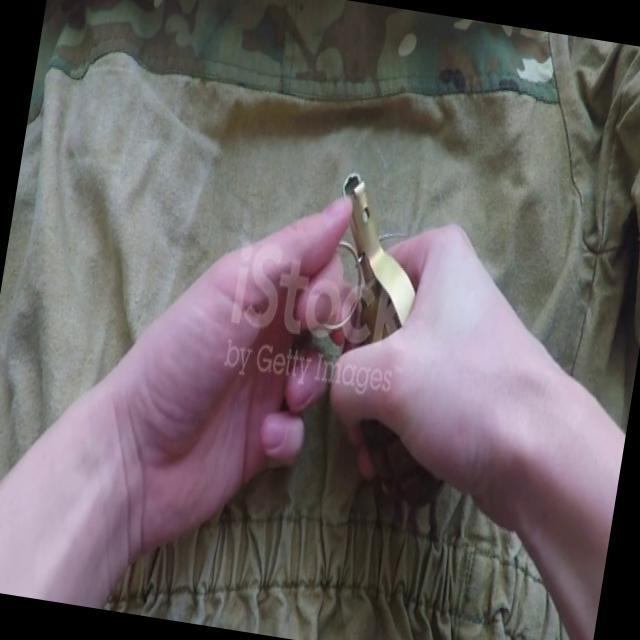grenade: (296, 172, 492, 508)
